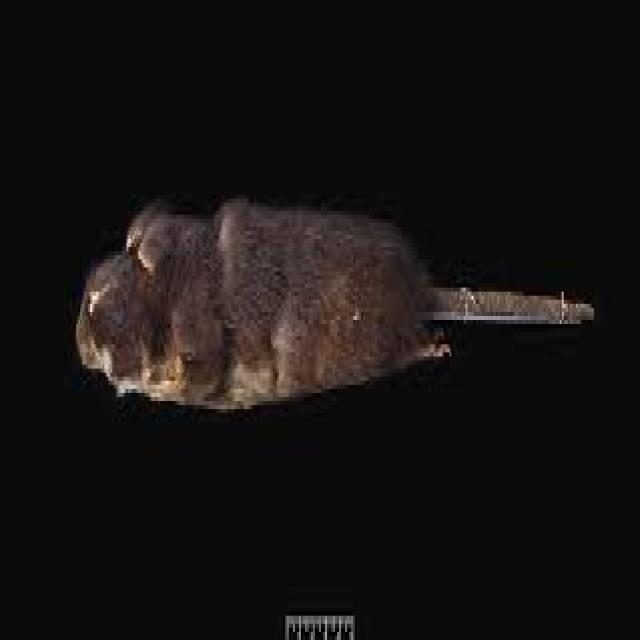rat: (74, 190, 594, 414)
